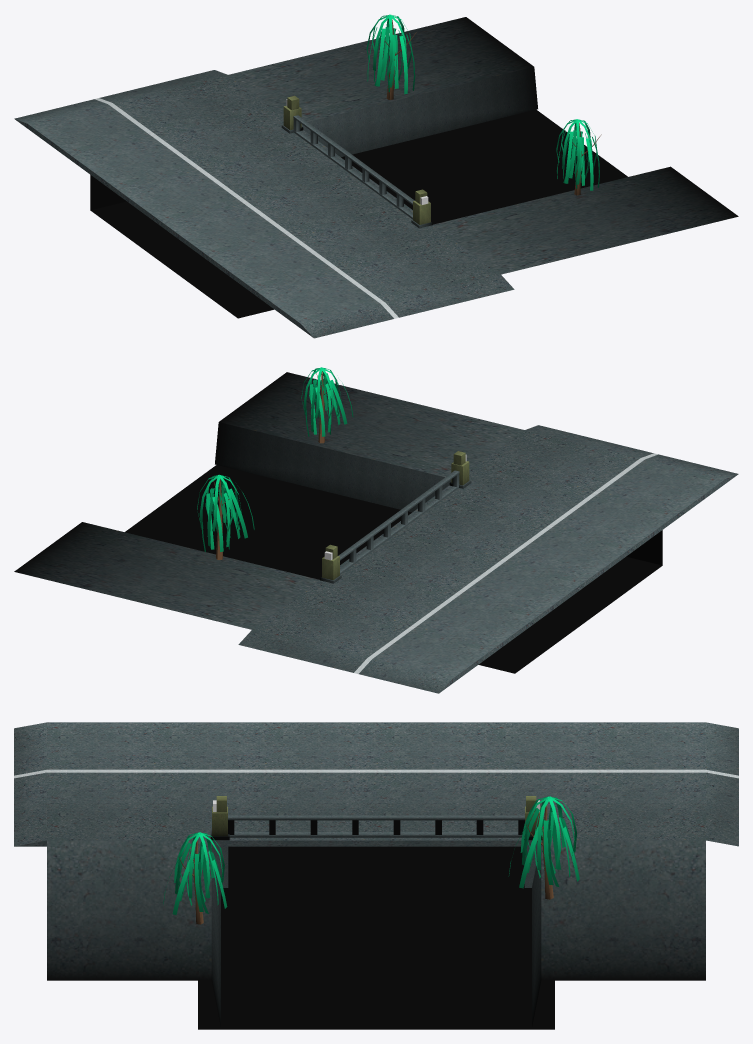
Rendered from SIRAKAWA_L.glb.
3 views of the same model, one above another, from view 1: azimuth 30°, elevation 25°; view 2: azimuth 150°, elevation 25°; view 3: azimuth 270°, elevation 25° (orthographic). The views are drawn at different scales.
Visible parts, largest first — view 1: Model, Joint_11, Joint_111; view 2: Model, Joint_11, Joint_111; view 3: Model, Joint_11, Joint_111.
Boxes of the visible parts, <box> form: Model: <box>14,17,738,338</box>; Joint_11: <box>90,14,627,318</box>; Joint_111: <box>556,119,601,195</box>; Model: <box>14,372,738,693</box>; Joint_11: <box>125,451,662,673</box>; Joint_111: <box>301,367,353,443</box>; Model: <box>14,722,738,1026</box>; Joint_11: <box>198,796,579,1029</box>; Joint_111: <box>163,832,227,924</box>.
Bounding box in the file's own units: 92.76 × 25.12 × 110.
Materials: 9 (5 with a texture image).
